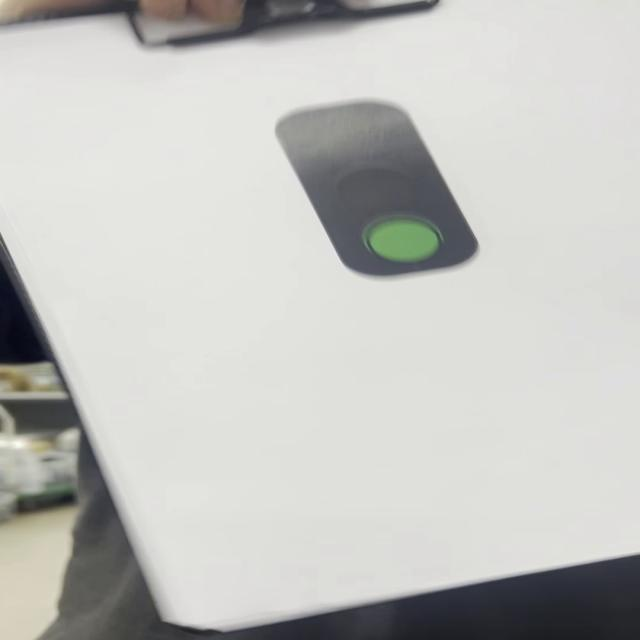green: (280, 100, 481, 279)
